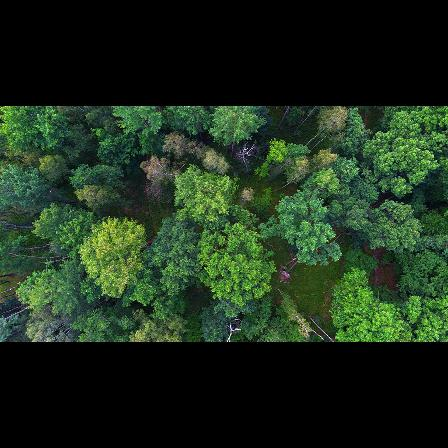Dead: (231, 135, 262, 170), (221, 315, 242, 341)
